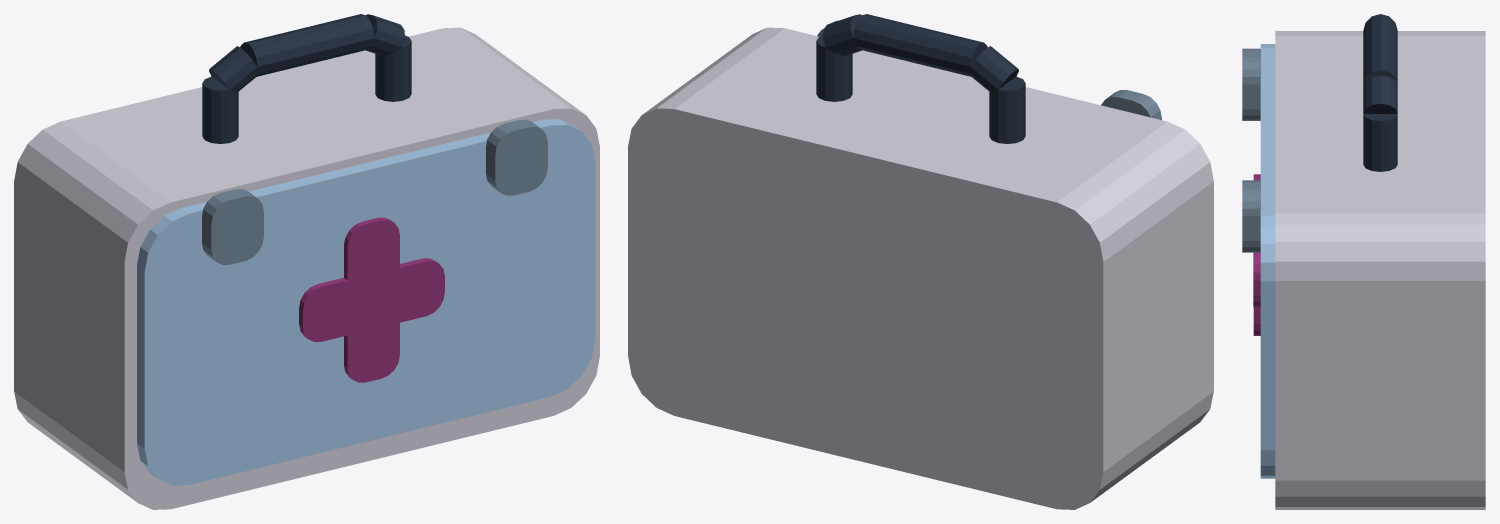
Rendered from firstaid.glb.
3 renders of one model, left to right at view 1: azimuth 30°, elevation 25°; view 2: azimuth 150°, elevation 25°; view 3: azimuth 270°, elevation 25°, orthographic. The views are drawn at different scales.
Parts seen in each view (by area): view 1: lid, case, cross horizontal, cross vertical, carry handle2, closure 0.46, closure -0.46, carry handle0, carry handle4, carry handle1, carry handle3; view 2: case, carry handle2, carry handle0, carry handle4, carry handle1, carry handle3, closure -0.46; view 3: case, lid, carry handle2, carry handle4, closure -0.46, closure 0.46, carry handle3, cross horizontal, cross vertical.
Boxes of the visible parts, x1,y1,x2,y2 form: lid: (137, 119, 595, 485); case: (14, 27, 599, 509); cross horizontal: (299, 258, 444, 341); cross vertical: (344, 217, 399, 382); carry handle2: (240, 14, 374, 76); closure 0.46: (486, 119, 547, 195); closure -0.46: (202, 189, 263, 264); carry handle0: (202, 76, 238, 143); carry handle4: (375, 35, 411, 101); carry handle1: (209, 46, 258, 91); carry handle3: (366, 14, 404, 55); case: (628, 27, 1213, 509); carry handle2: (853, 14, 987, 76); carry handle0: (989, 76, 1025, 143); carry handle4: (816, 35, 852, 101); carry handle1: (969, 46, 1018, 91); carry handle3: (823, 14, 861, 55); closure -0.46: (1101, 90, 1161, 119); case: (1275, 31, 1485, 509); lid: (1260, 44, 1275, 478); carry handle2: (1363, 15, 1397, 84); carry handle4: (1363, 114, 1397, 171); closure -0.46: (1242, 48, 1260, 120); closure 0.46: (1242, 180, 1260, 252); carry handle3: (1363, 75, 1397, 113); cross horizontal: (1253, 252, 1260, 307); cross vertical: (1253, 174, 1260, 335).
Bounding box in the file's own units: 1.54 × 1.22 × 0.7175.
